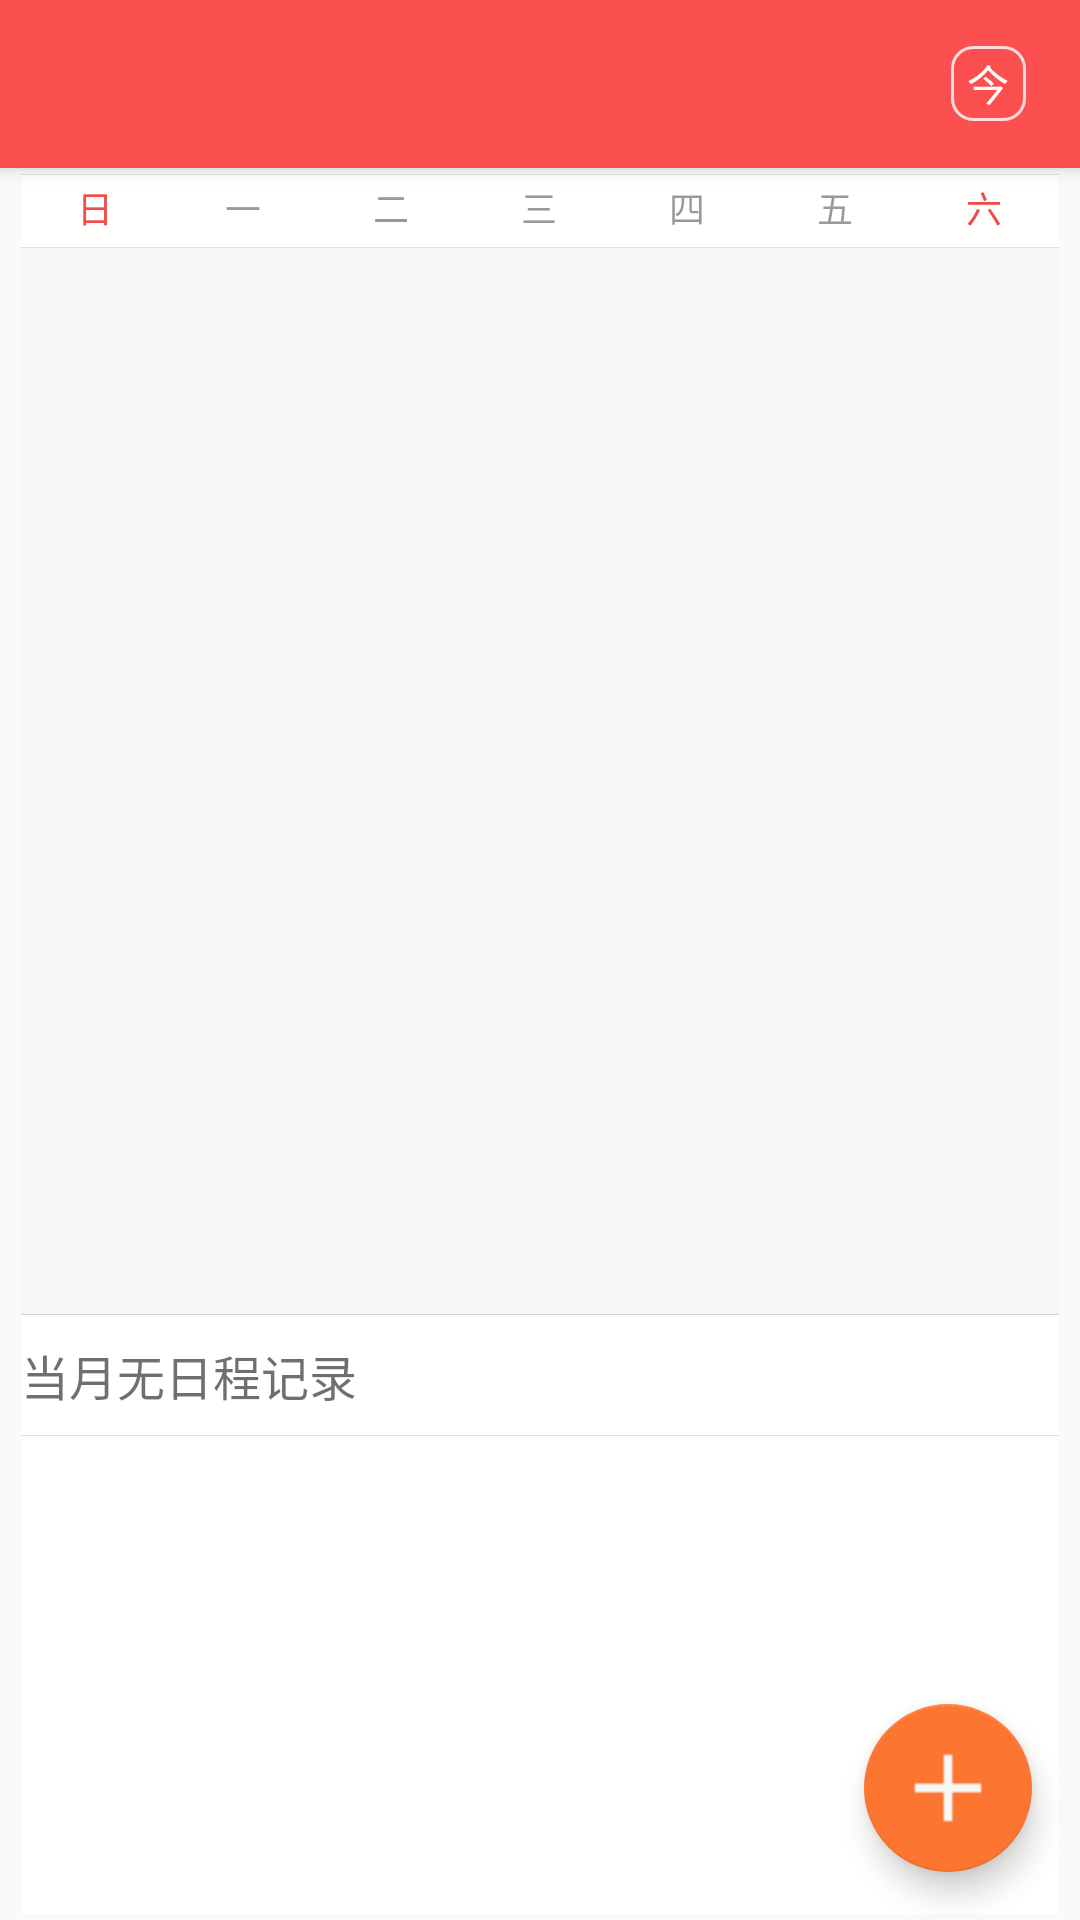

Locate icon controls on the screen. Image size 1080×1920, boxes as bbox=[x1, y1, x2, y2].
add main: bbox=[864, 1704, 1032, 1872]
